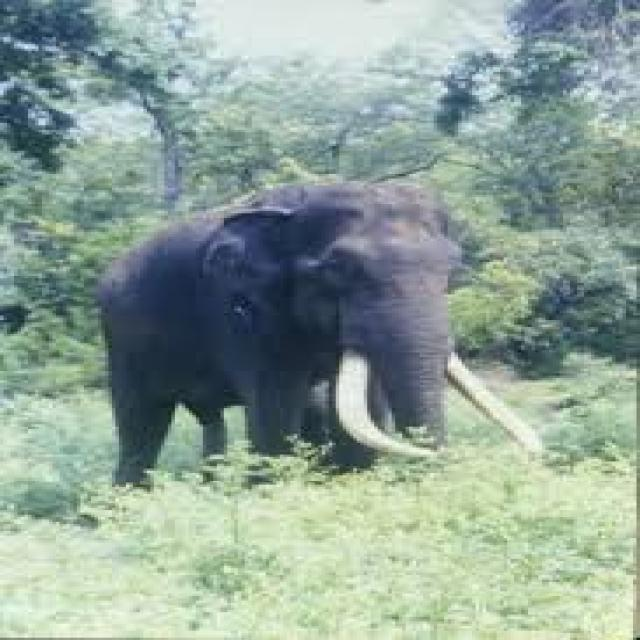Elephant: (79, 174, 490, 488)
